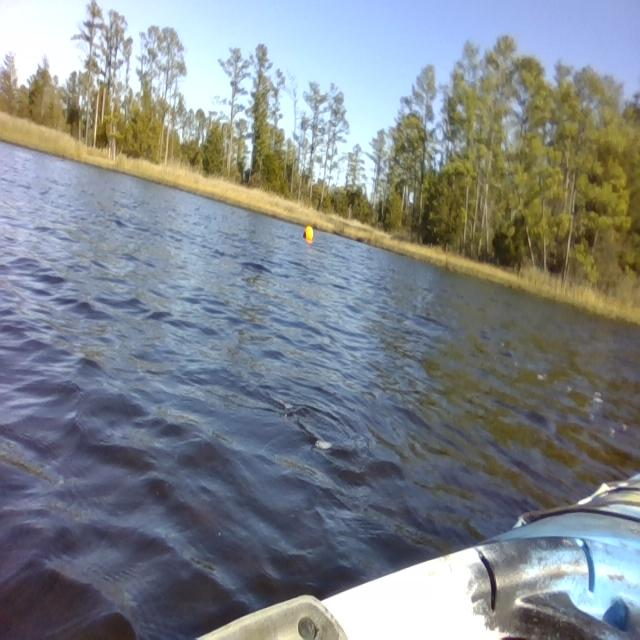Buoy: (301, 219, 315, 244)
